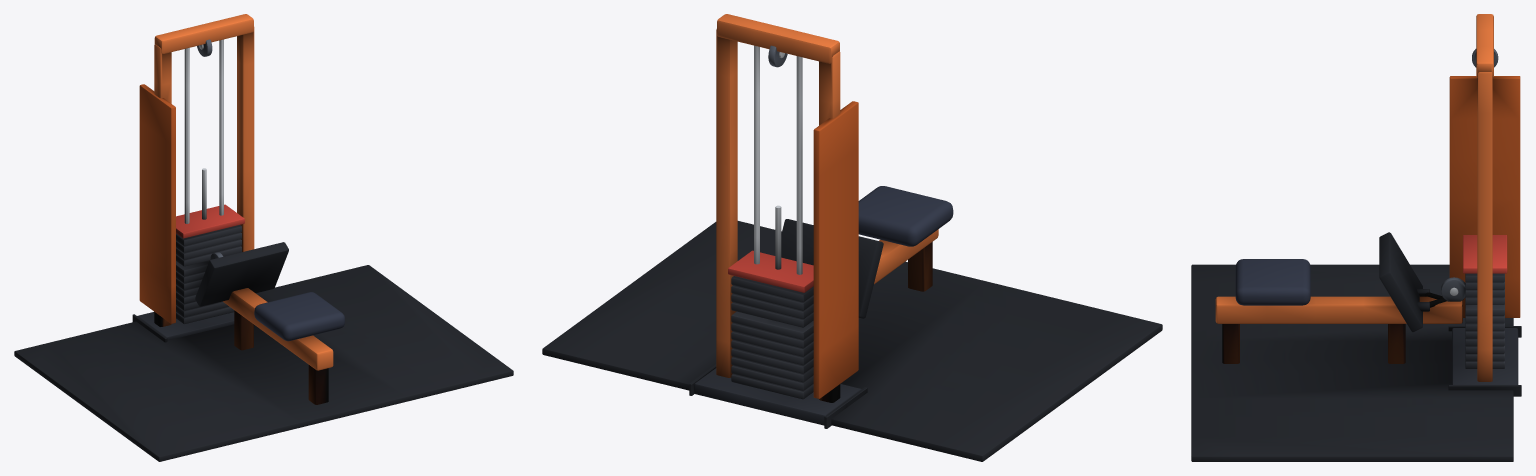
Rendered from m_row.glb.
3 views of the same model, side by side, from view 1: azimuth 30°, elevation 25°; view 2: azimuth 150°, elevation 25°; view 3: azimuth 270°, elevation 25° (orthographic). The views are drawn at different scales.
Parts seen in each view (by area): view 1: static, o17; view 2: static, o17; view 3: static, o17, o41.
Boxes of the visible parts, x1,y1,x2,y2 form: static: (14, 14, 513, 461); o17: (176, 168, 244, 266); static: (542, 14, 1162, 461); o17: (728, 205, 813, 327); static: (1191, 14, 1521, 461); o17: (1463, 235, 1507, 304); o41: (1417, 289, 1446, 311).
Bounding box in the file's own units: 2.06 × 1.64 × 1.49.
